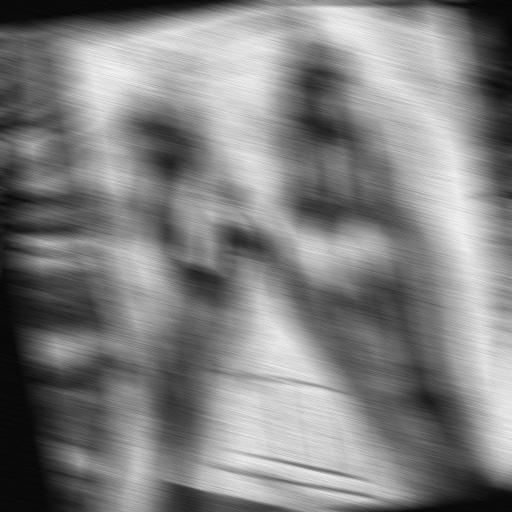bottom_right: (135, 466, 157, 483)
door: (127, 4, 399, 512)
top_right: (55, 38, 74, 53)
